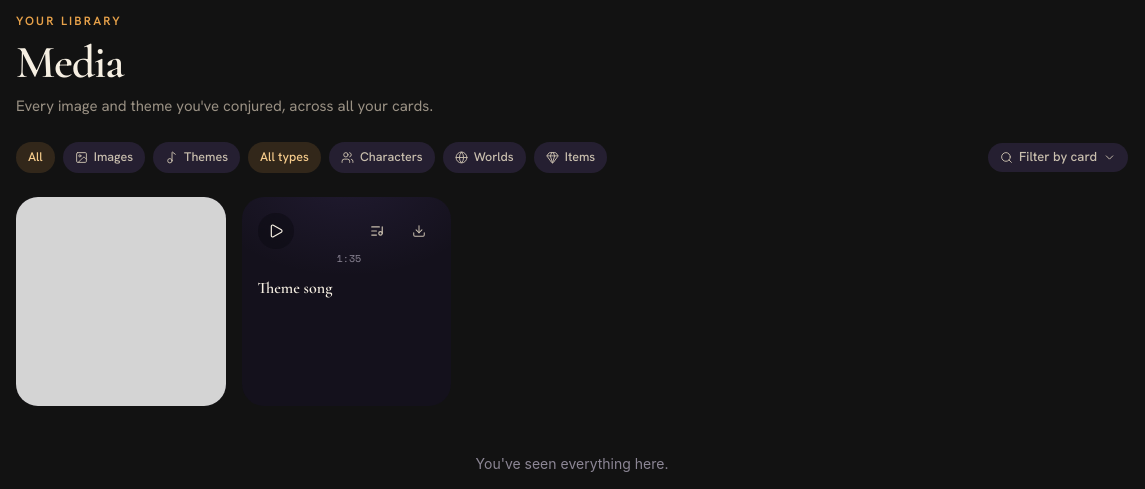
Test case: MediaGalleryPage › media-type chips refetch only the matching source
The width and height of the screenshot is (1145, 489).
Click the button with test id "media-filter-themes".
click(197, 158)  # box top-left (153, 142), bottom-right (240, 173)
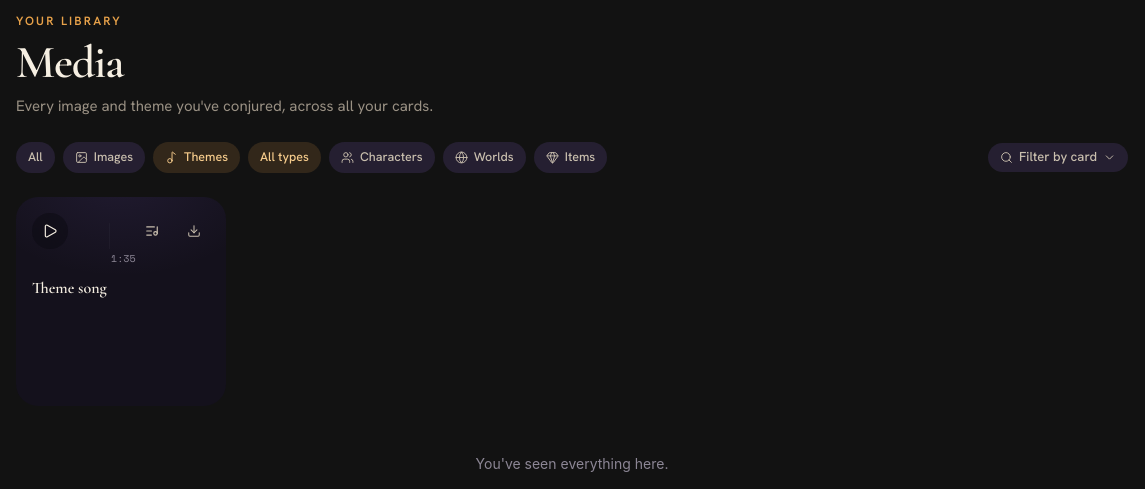
Now the element with test id "media-image-tile" is gone
